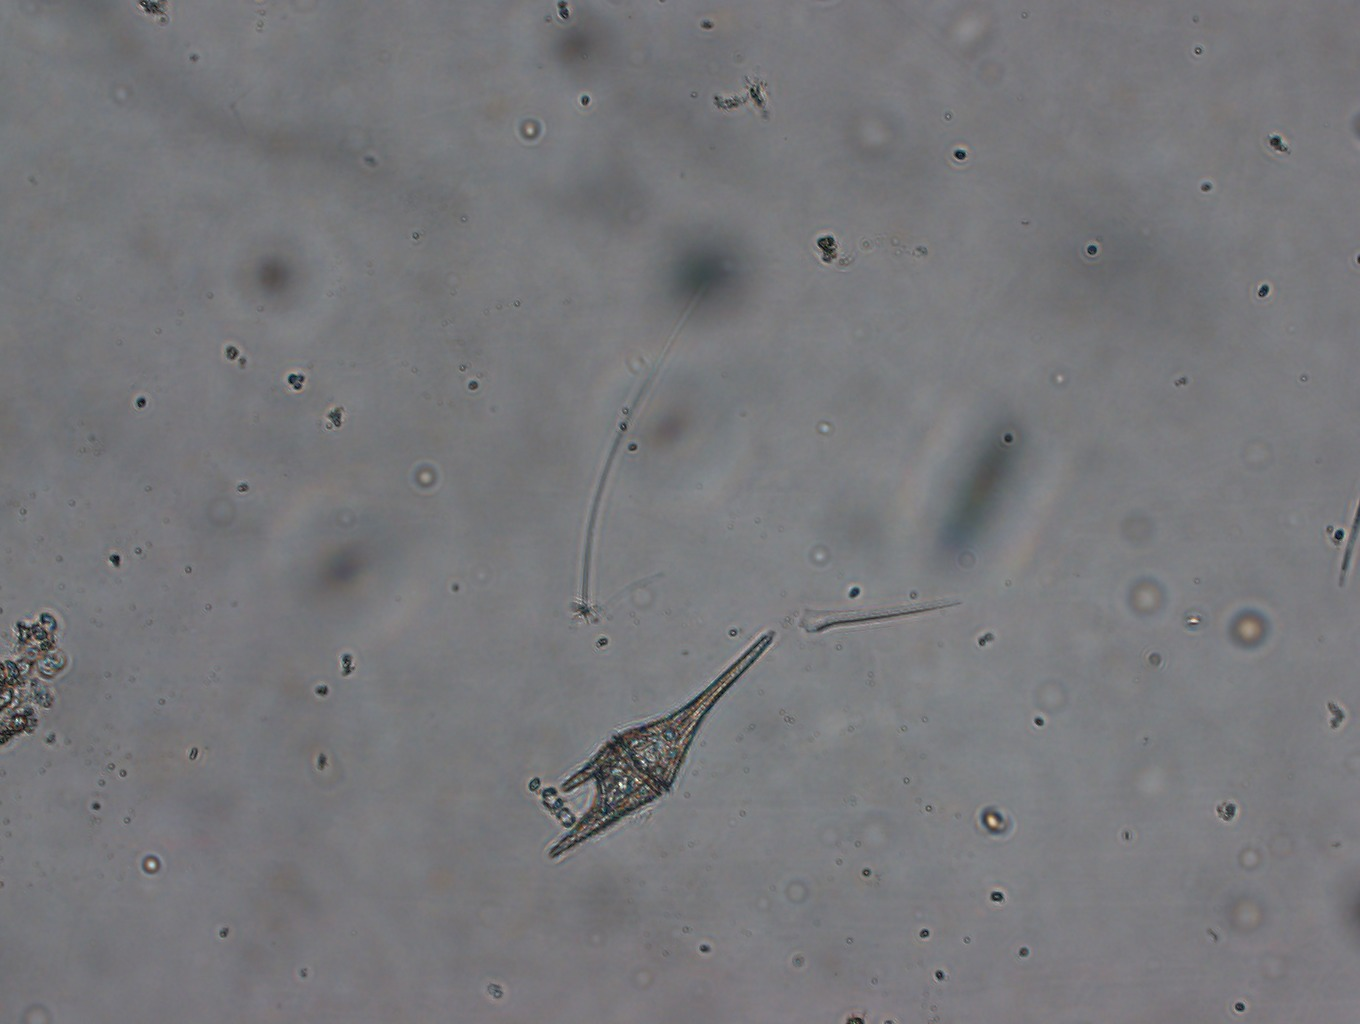ceratium furca: (540, 627, 785, 865)
